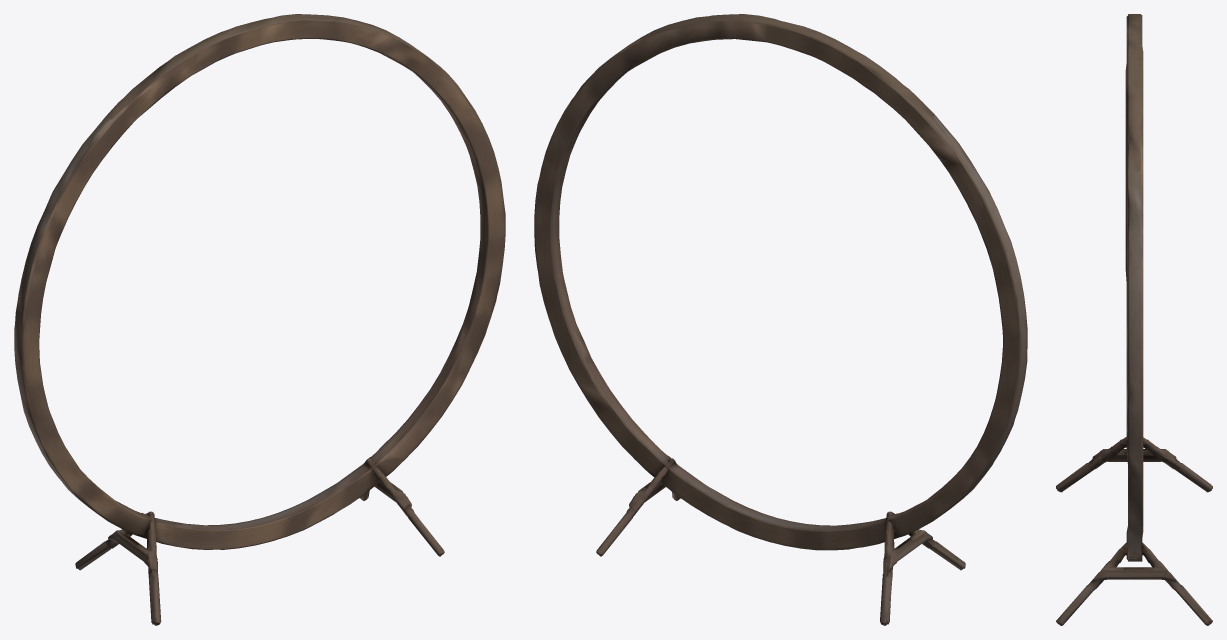
Rendered from circle_arch_0122005657_texture.glb.
The picture shows the model from 3 angles, left to right: view 1: azimuth 30°, elevation 25°; view 2: azimuth 150°, elevation 25°; view 3: azimuth 270°, elevation 25°; orthographic projection. The views are drawn at different scales.
Parts seen in each view (by area): view 1: Mesh_0.001; view 2: Mesh_0.001; view 3: Mesh_0.001.
Boxes of the visible parts, x1,y1,x2,y2 form: Mesh_0.001: [14, 14, 505, 625]; Mesh_0.001: [534, 14, 1027, 625]; Mesh_0.001: [1056, 14, 1212, 625].
Size of the model in its own units: 2.1 by 2.23 by 0.6077.
1 material, 1 textured.
